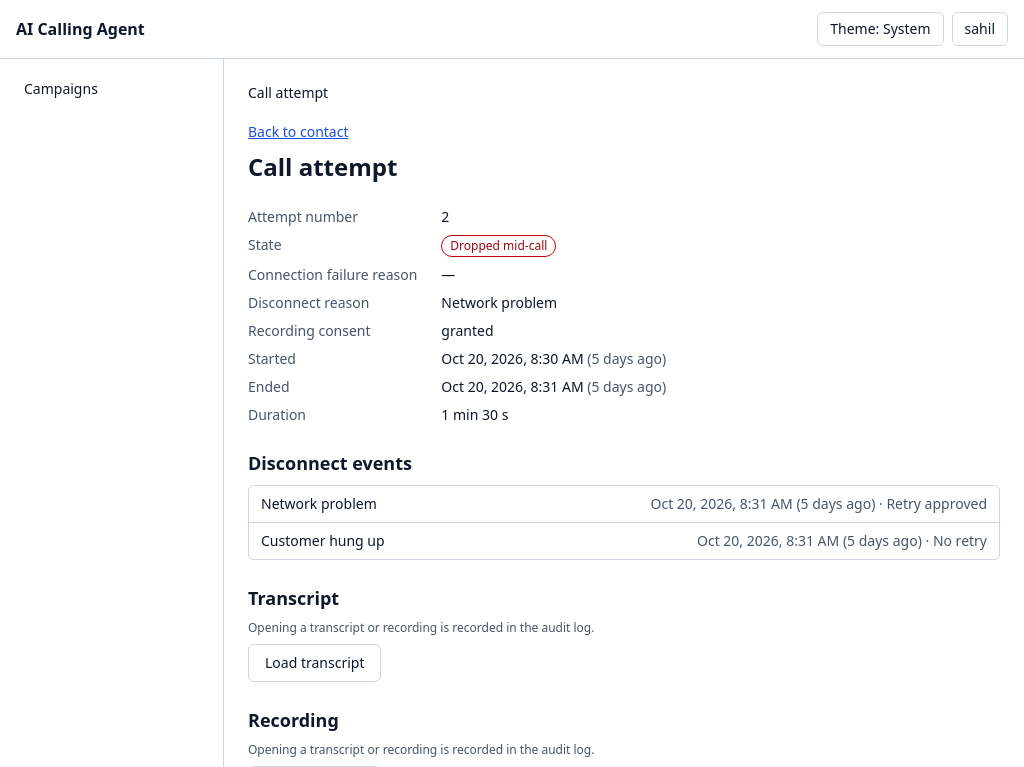
Scenario: transcript › a server error is reported and loading can be tried again
Click the button "Load transcript": (315, 663) x1=248 y1=644 x2=382 y2=682
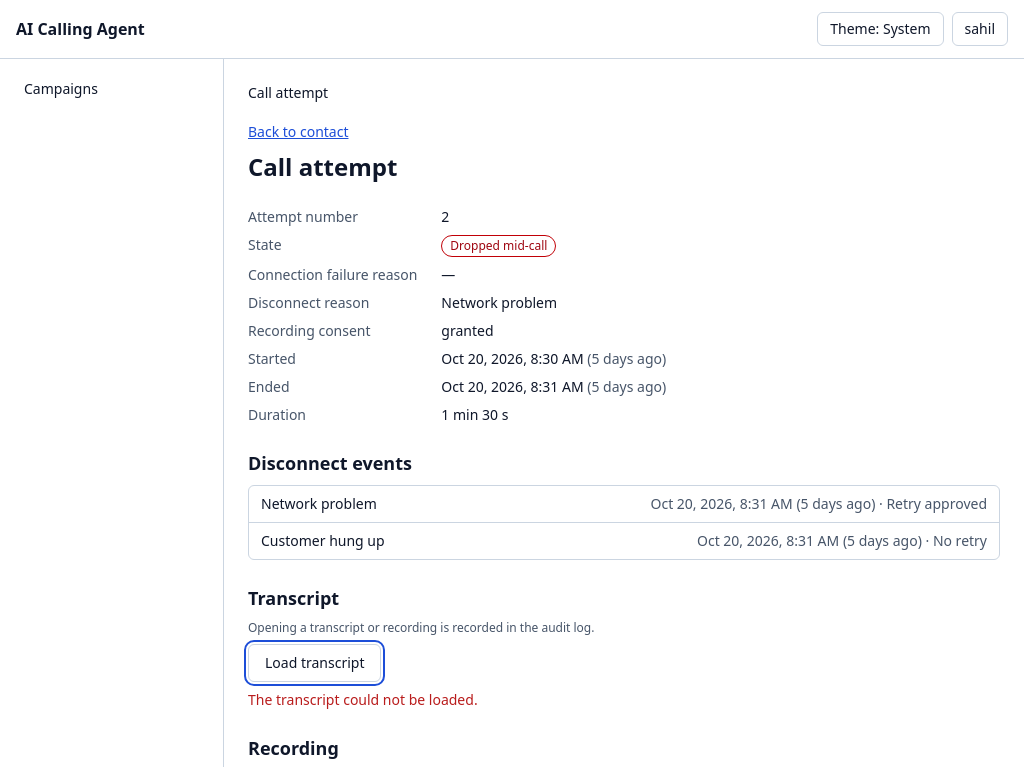
Now the text "The transcript could not be loaded." is shown, box x1=248 y1=690 x2=478 y2=709
Click the button "Load transcript": (315, 663) x1=248 y1=644 x2=382 y2=682
(page scrolled)
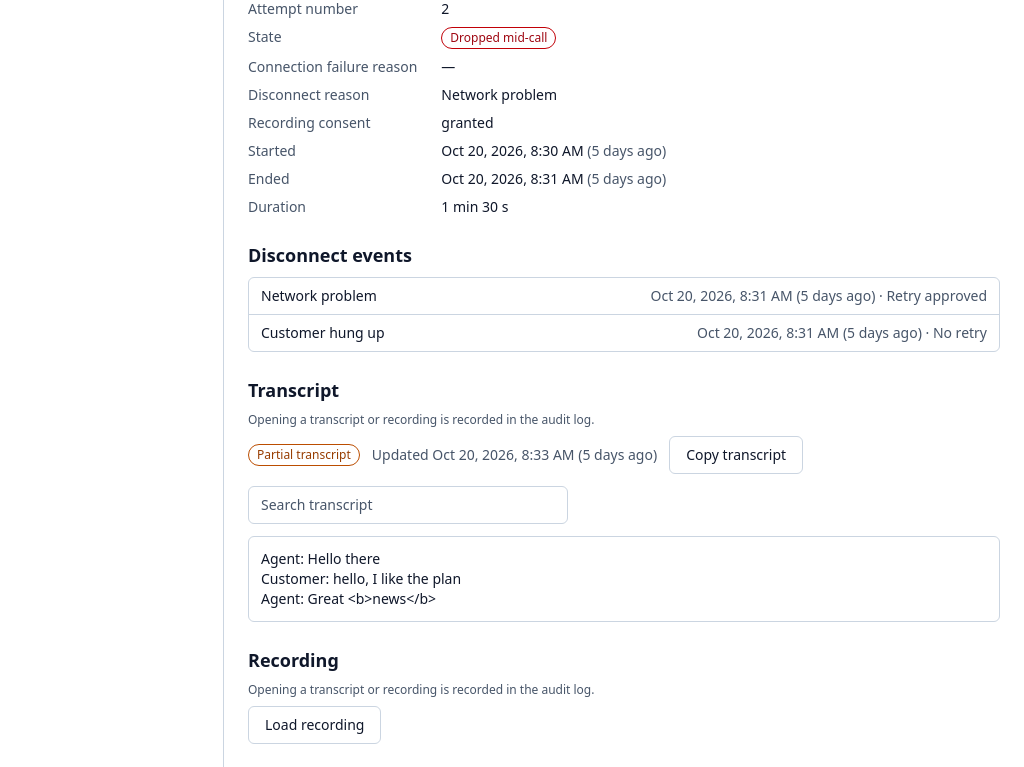
Now the element named "Transcript text" is shown, box x1=248 y1=536 x2=1000 y2=622
